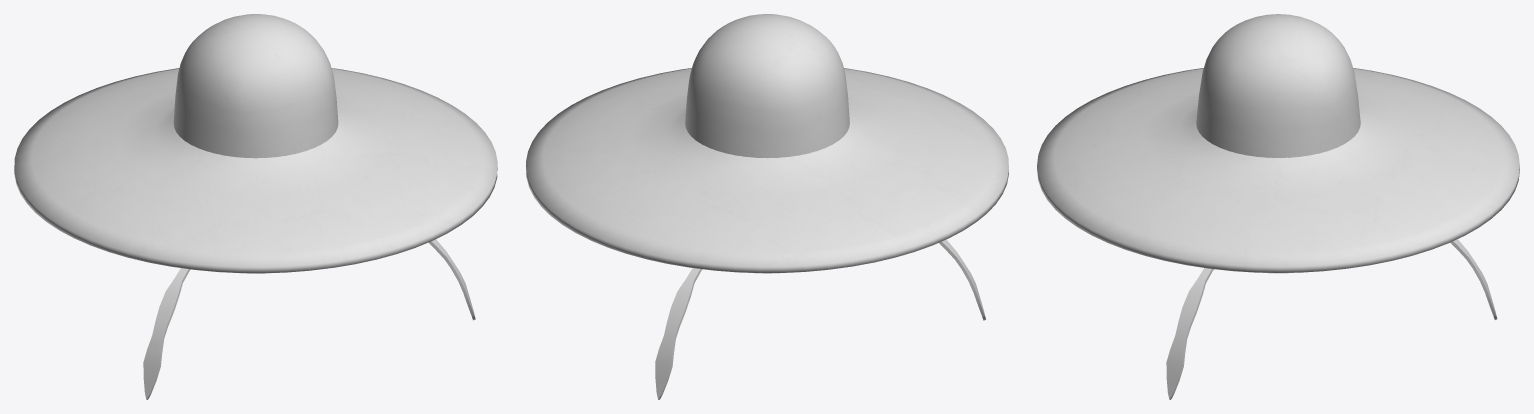
File: cc0_-_ufo.glb
The picture shows the model from 3 angles, left to right: view 1: azimuth 30°, elevation 25°; view 2: azimuth 150°, elevation 25°; view 3: azimuth 270°, elevation 25°; orthographic projection.
Visible parts, largest first — view 1: UFO_UFO_0; view 2: UFO_UFO_0; view 3: UFO_UFO_0.
Part boxes in pixels (bbox=[...]): UFO_UFO_0: bbox=[14, 14, 497, 399]; UFO_UFO_0: bbox=[526, 14, 1008, 399]; UFO_UFO_0: bbox=[1037, 14, 1519, 399].
Bounding box in the file's own units: 1.63 × 1.11 × 1.63.
Materials: 1 (1 with a texture image).
